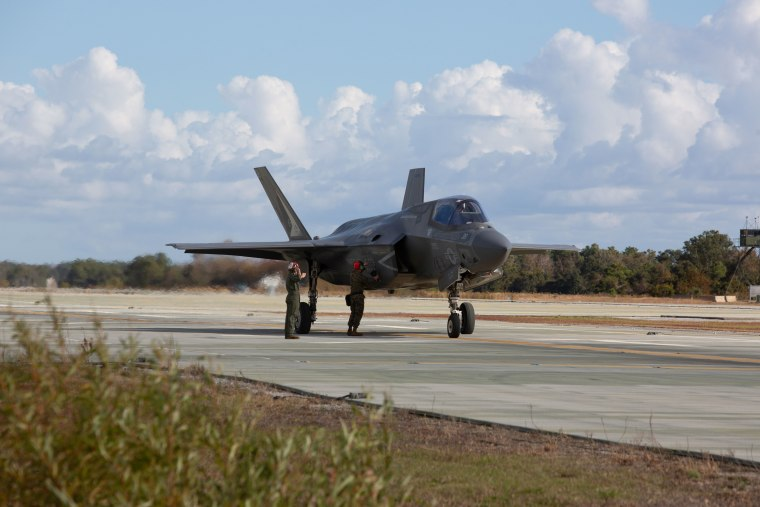F35: (160, 161, 586, 342)
